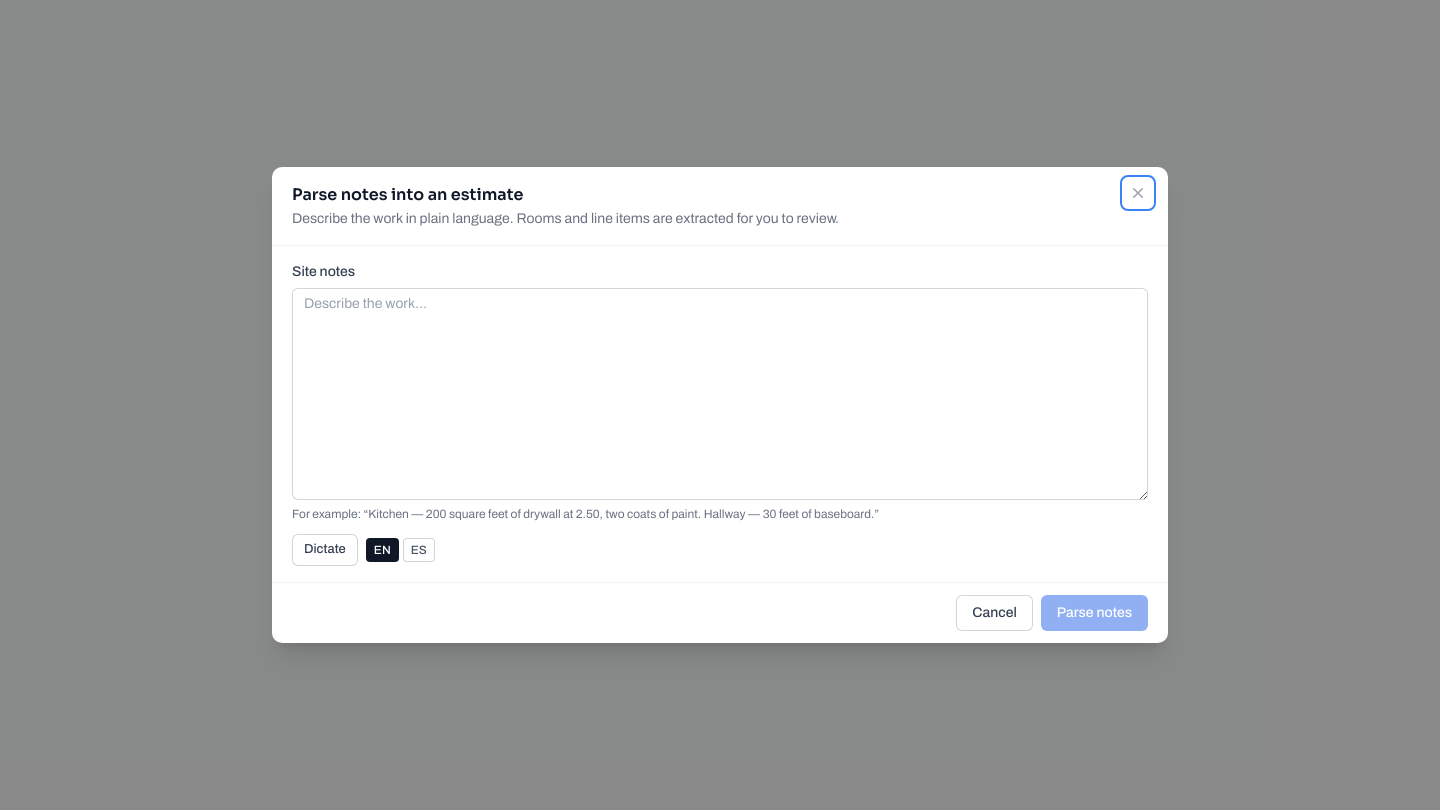
ParseNotesDrawer › failures › explains a 422 as notes the model could not read
Type "asdf" into the text box labelled "Site notes".
click(720, 394); type("asdf")  # box [292, 288, 1148, 500]
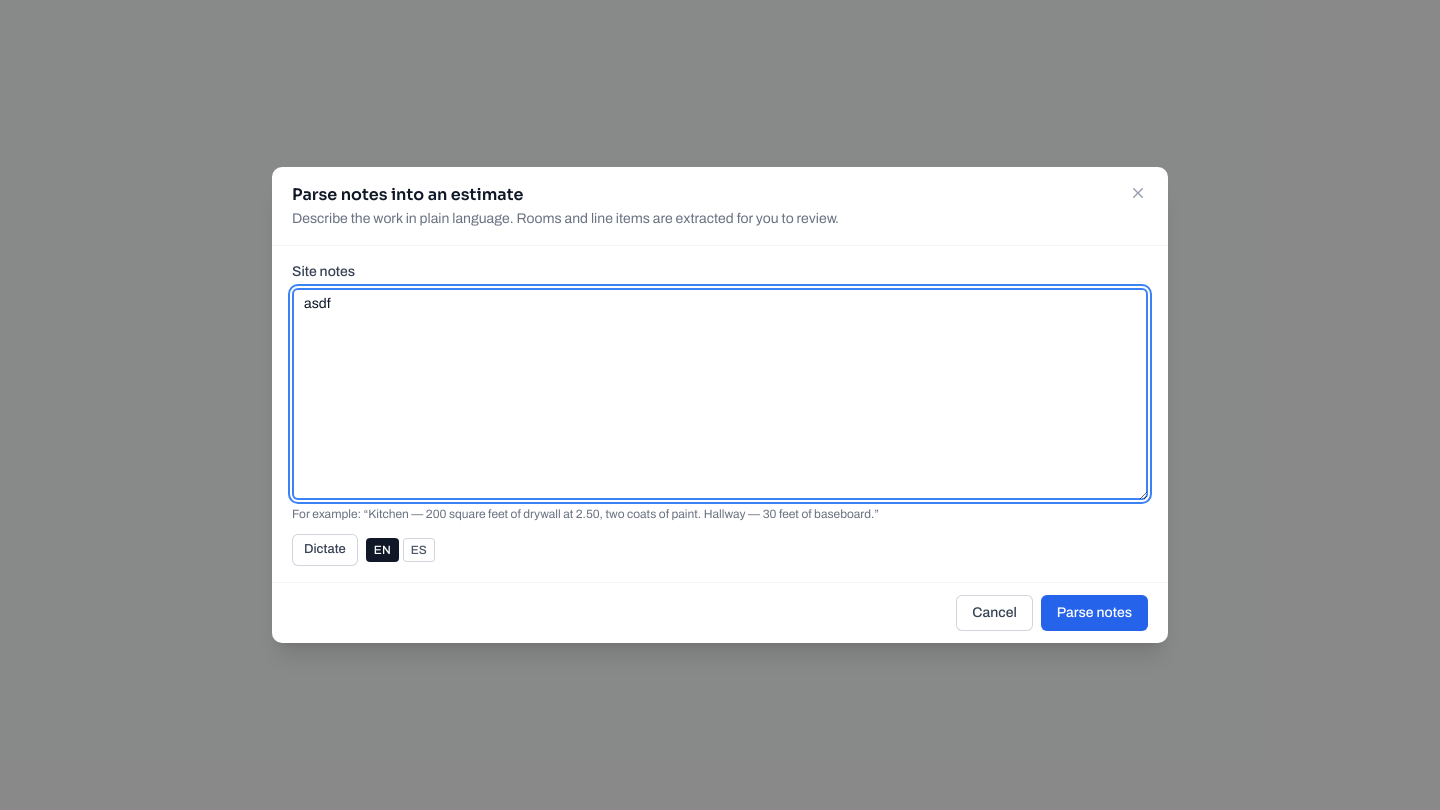
Click the button "Parse notes".
click(1094, 613)  # box [1041, 595, 1148, 631]
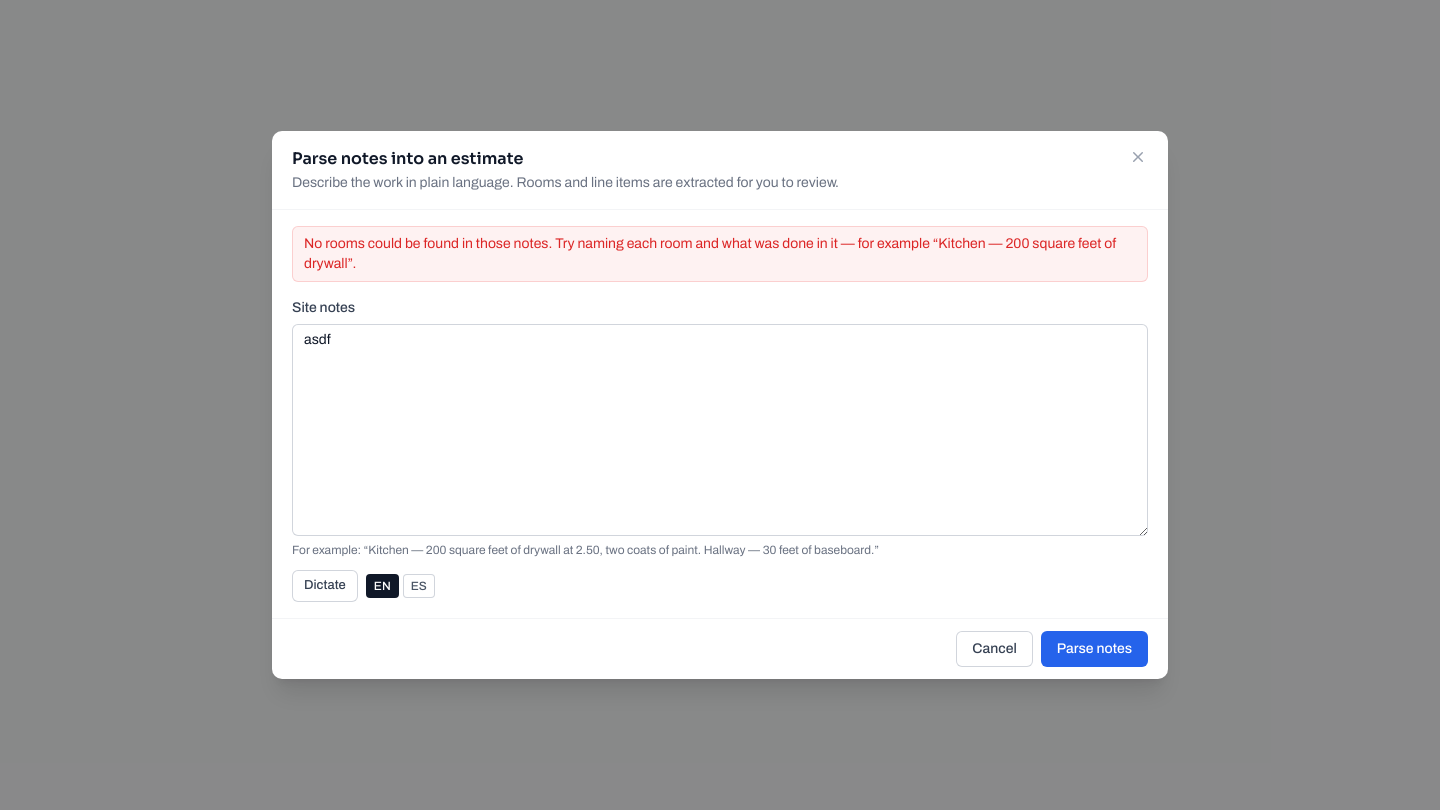
Check: the text "No rooms could be found" is shown, box [304, 236, 1116, 271]
